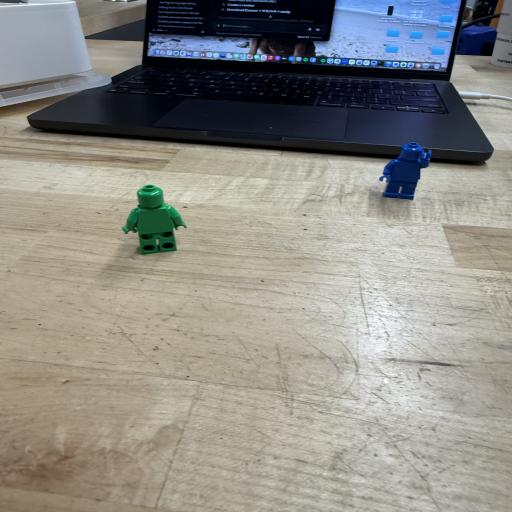blue-minifig: (379, 143, 431, 199)
green-minifig: (123, 185, 186, 254)
